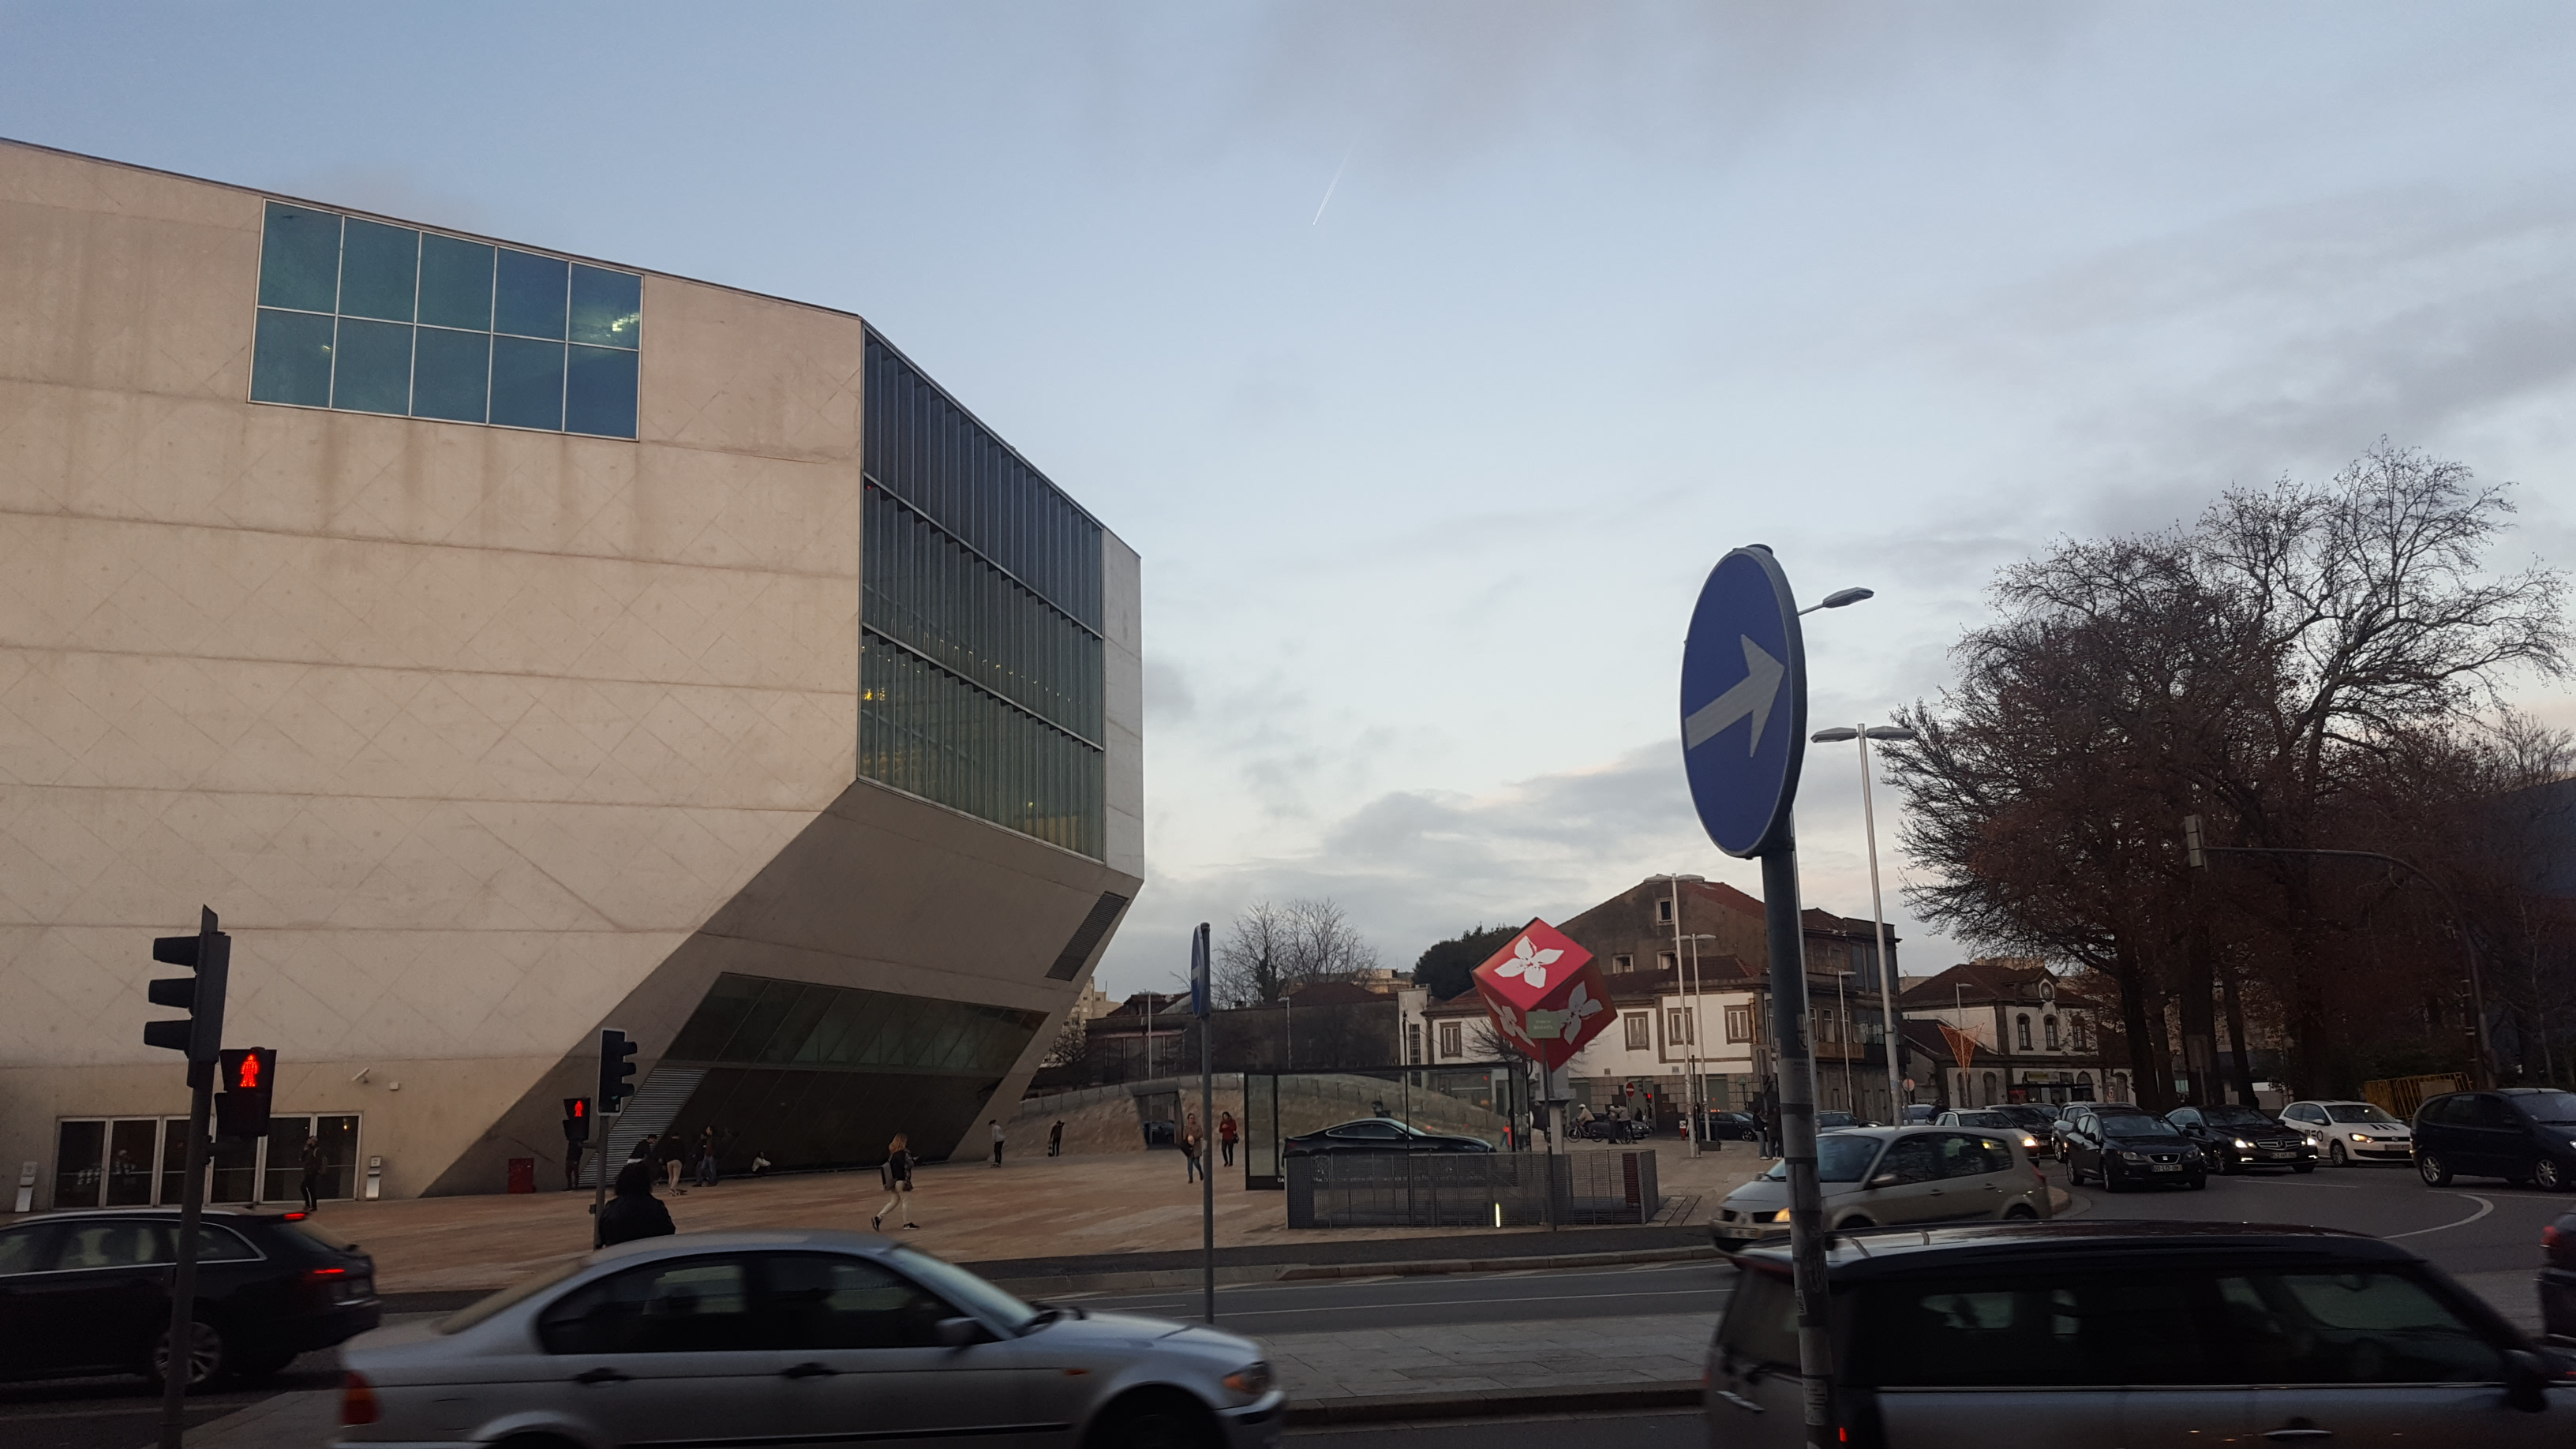musica: (0, 131, 1219, 1215)
